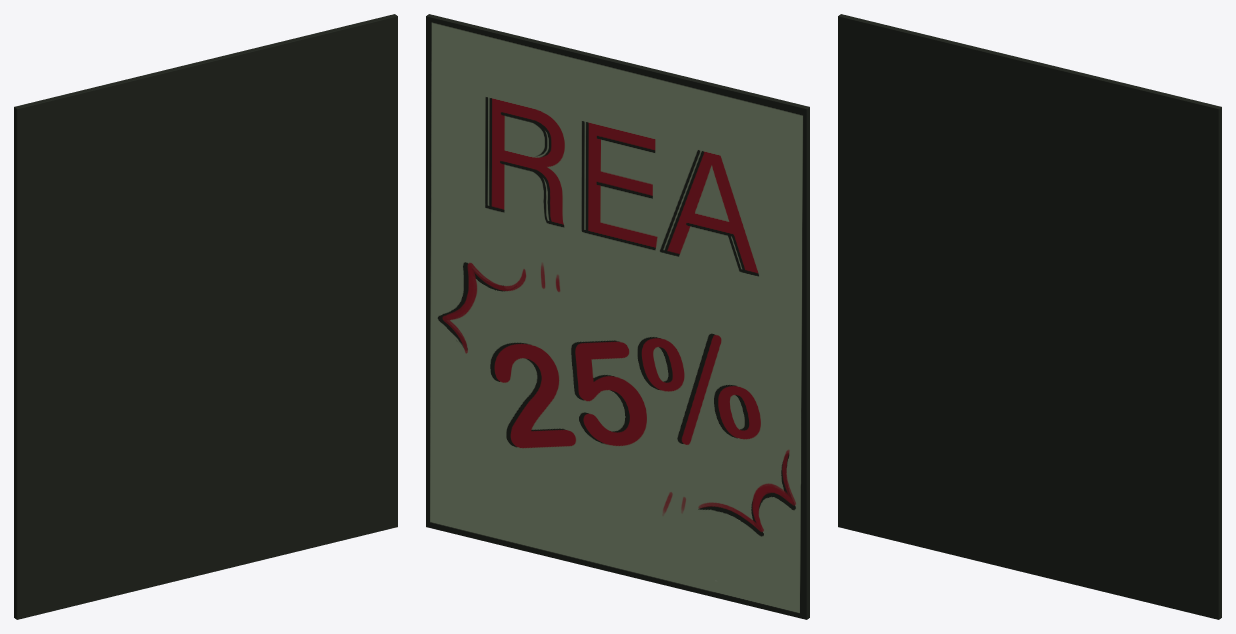
File: reklam.skylt.fbx
3 views of the same model, side by side, from view 1: azimuth 30°, elevation 25°; view 2: azimuth 150°, elevation 25°; view 3: azimuth 330°, elevation 25° (orthographic).
Parts seen in each view (by area): view 1: rea_skylt; view 2: rea_skylt; view 3: rea_skylt.
Part boxes in pixels (x1,y1,x2,y2): rea_skylt: [14, 14, 397, 619]; rea_skylt: [426, 14, 809, 619]; rea_skylt: [838, 14, 1221, 619].
Bounding box in the file's own units: 0.7804 × 1 × 0.0109.
Materials: 1 (1 with a texture image).
